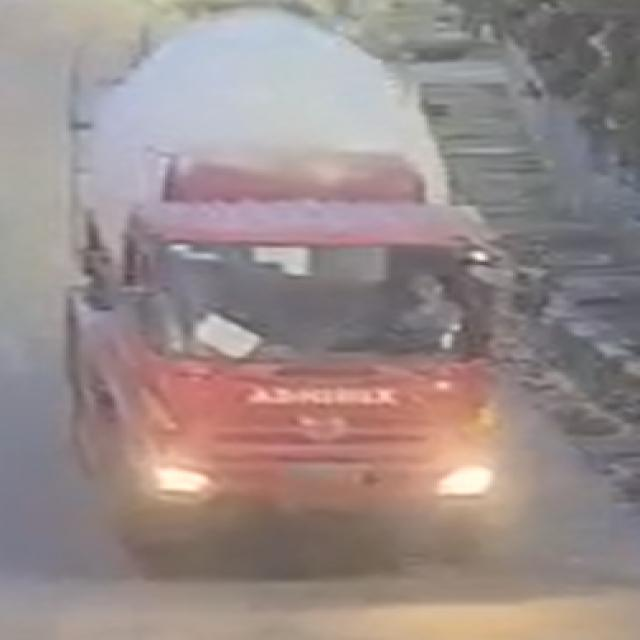truck: (36, 26, 565, 584)
